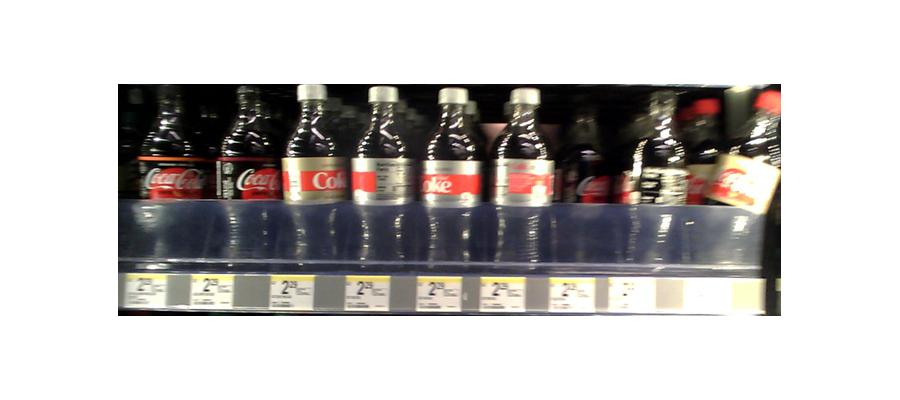bottle: (133, 96, 211, 270), (422, 82, 485, 269), (489, 85, 553, 269), (353, 82, 415, 267), (284, 79, 347, 260), (629, 100, 693, 269), (218, 81, 277, 262), (693, 142, 774, 271), (560, 113, 619, 271)
